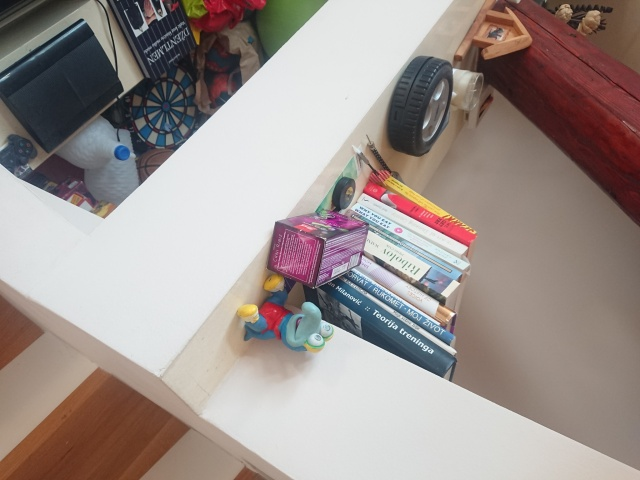Franck Black Currant Tea 60g: (264, 206, 371, 290)
